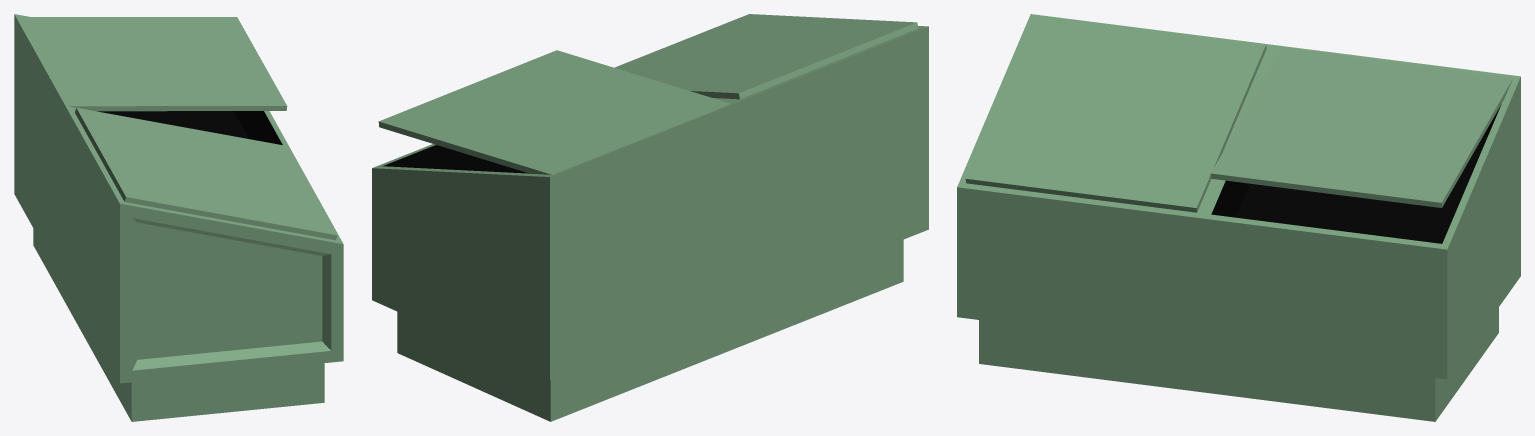
File: Conteiner_Musor.fbx
3 renders of one model, left to right at view 1: azimuth 30°, elevation 25°; view 2: azimuth 150°, elevation 25°; view 3: azimuth 270°, elevation 25°, orthographic. The views are drawn at different scales.
Visible parts, largest first — view 1: Conteiner_musor; view 2: Conteiner_musor; view 3: Conteiner_musor.
Boxes of the visible parts, x1,y1,x2,y2 form: Conteiner_musor: [14, 14, 343, 421]; Conteiner_musor: [372, 14, 928, 421]; Conteiner_musor: [957, 14, 1520, 421].
Size of the model in its own units: 2.94 by 2.11 by 4.23.
